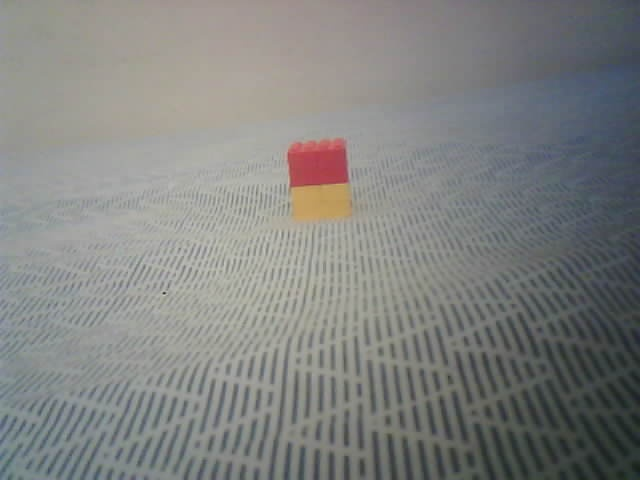lego: (285, 137, 352, 224)
